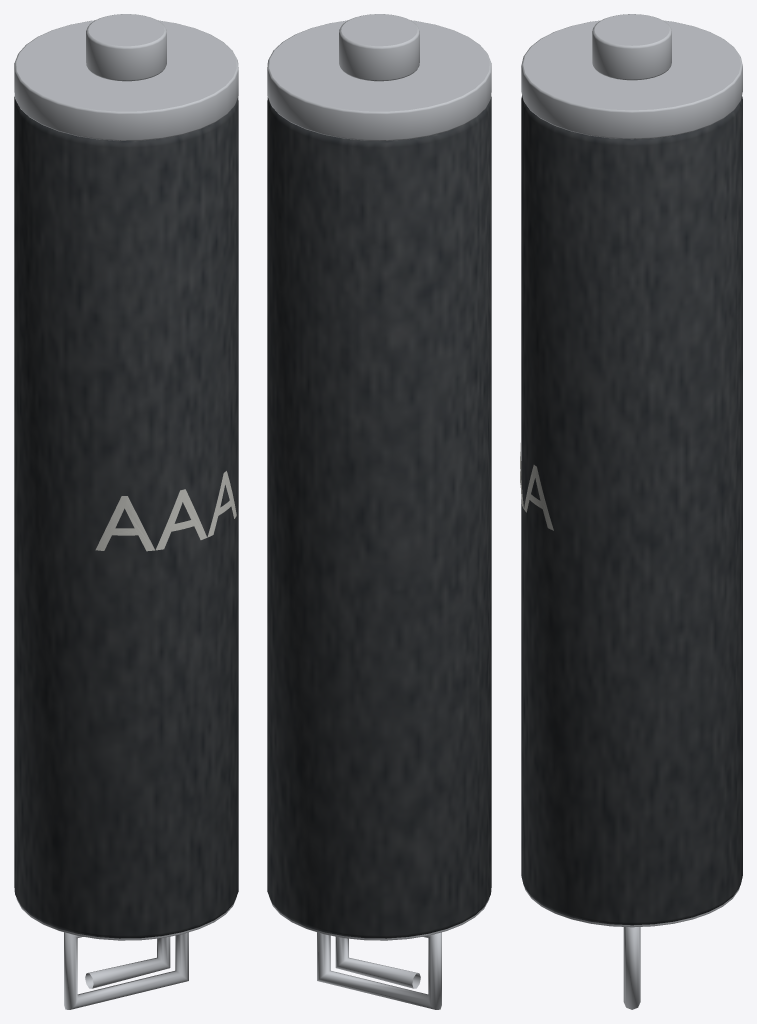
File: BatteryAAImprovised-v1.fbx
3 views of the same model, side by side, from view 1: azimuth 30°, elevation 25°; view 2: azimuth 150°, elevation 25°; view 3: azimuth 270°, elevation 25° (orthographic).
Visible parts, largest first — view 1: PW_BatteryAAImprovised; view 2: PW_BatteryAAImprovised; view 3: PW_BatteryAAImprovised.
Part boxes in pixels (x1,y1,x2,y2): PW_BatteryAAImprovised: [14, 14, 238, 1009]; PW_BatteryAAImprovised: [267, 14, 491, 1009]; PW_BatteryAAImprovised: [520, 14, 742, 1009].
Size of the model in its own units: 1.05 by 4.97 by 1.06.
Materials: 1 (1 with a texture image).
